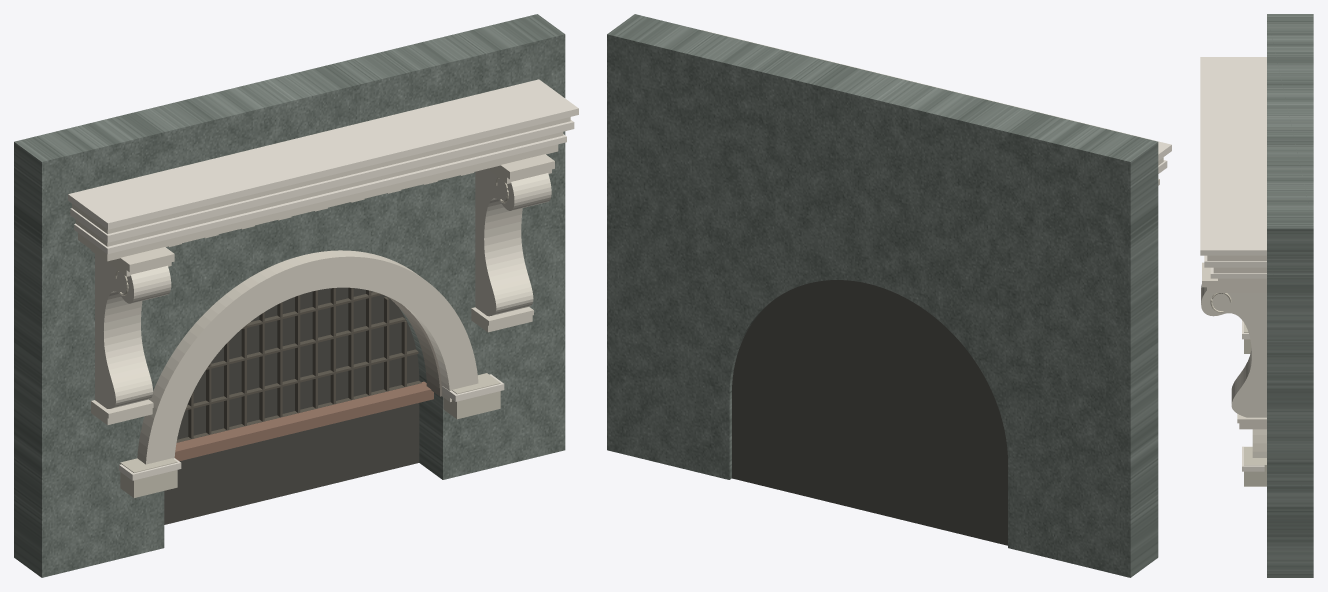
Rendered from north-sichuan-2305-arched-hood-near.glb.
3 renders of one model, left to right at view 1: azimuth 30°, elevation 25°; view 2: azimuth 150°, elevation 25°; view 3: azimuth 270°, elevation 25°, orthographic. The views are drawn at different scales.
Parts seen in each view (by area): view 1: 四川北路2305号住宅弧券门头与双曲托; view 2: 四川北路2305号住宅弧券门头与双曲托; view 3: 四川北路2305号住宅弧券门头与双曲托.
Part boxes in pixels (x1,y1,x2,y2): 四川北路2305号住宅弧券门头与双曲托: (14,14,578,577); 四川北路2305号住宅弧券门头与双曲托: (607,14,1171,577); 四川北路2305号住宅弧券门头与双曲托: (1200,14,1313,577).
Bounding box in the file's own units: 3.24 × 2.46 × 0.725.
10 materials, 1 textured.
